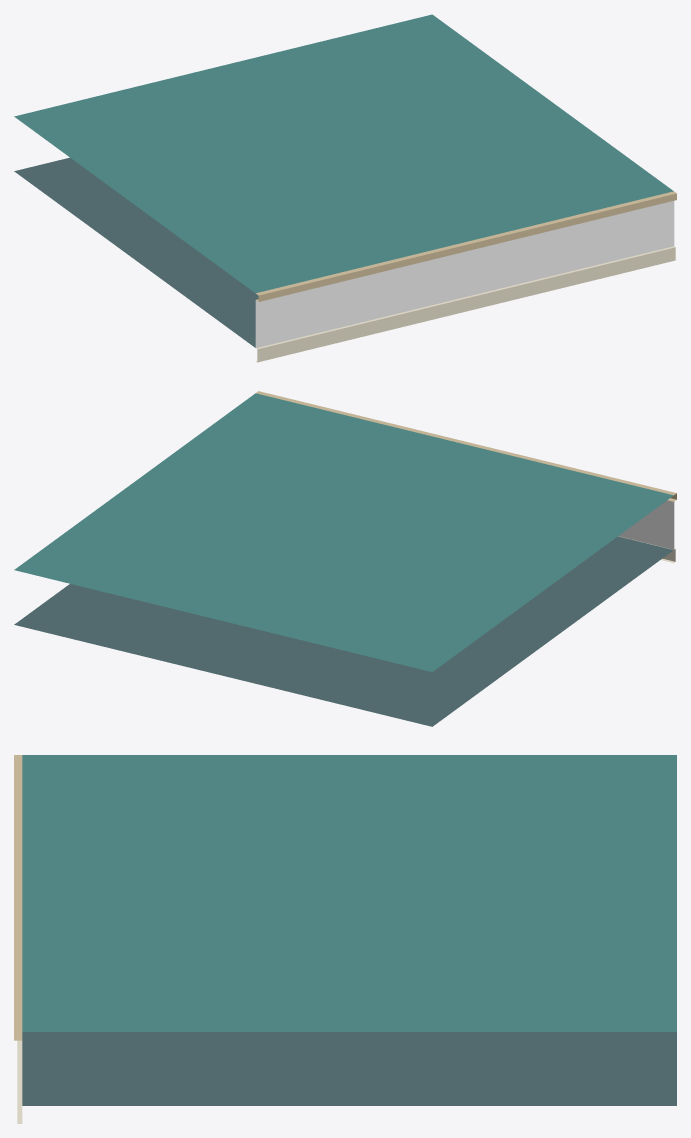
Rendered from KC32__AD_Arc_Mezzanine_Open_Violet.glb.
3 renders of one model, top to bottom at view 1: azimuth 30°, elevation 25°; view 2: azimuth 150°, elevation 25°; view 3: azimuth 270°, elevation 25°, orthographic. The views are drawn at different scales.
Visible parts, largest first — view 1: KC32_CORPS__AD_Arc_Mezzanine_Open_Violet, KC32_ACCENT__AD_Arc_Mezzanine_Open_Violet, KC32_LUMIERE__AD_Arc_Mezzanine_Open_Violet, KC32_BRONZE__AD_Arc_Mezzanine_Open_Violet; view 2: KC32_CORPS__AD_Arc_Mezzanine_Open_Violet, KC32_ACCENT__AD_Arc_Mezzanine_Open_Violet, KC32_BRONZE__AD_Arc_Mezzanine_Open_Violet; view 3: KC32_CORPS__AD_Arc_Mezzanine_Open_Violet, KC32_BRONZE__AD_Arc_Mezzanine_Open_Violet.
Boxes of the visible parts, box(x1,y1,x2,y2) form: KC32_CORPS__AD_Arc_Mezzanine_Open_Violet: box(14, 14, 673, 347); KC32_ACCENT__AD_Arc_Mezzanine_Open_Violet: box(255, 201, 674, 347); KC32_LUMIERE__AD_Arc_Mezzanine_Open_Violet: box(256, 246, 675, 362); KC32_BRONZE__AD_Arc_Mezzanine_Open_Violet: box(256, 191, 676, 301); KC32_CORPS__AD_Arc_Mezzanine_Open_Violet: box(14, 393, 673, 726); KC32_ACCENT__AD_Arc_Mezzanine_Open_Violet: box(618, 500, 674, 549); KC32_BRONZE__AD_Arc_Mezzanine_Open_Violet: box(256, 391, 676, 501); KC32_CORPS__AD_Arc_Mezzanine_Open_Violet: box(22, 755, 676, 1105); KC32_BRONZE__AD_Arc_Mezzanine_Open_Violet: box(14, 755, 22, 1040).
Bounding box in the file's own units: 4 × 0.62 × 4.05.
